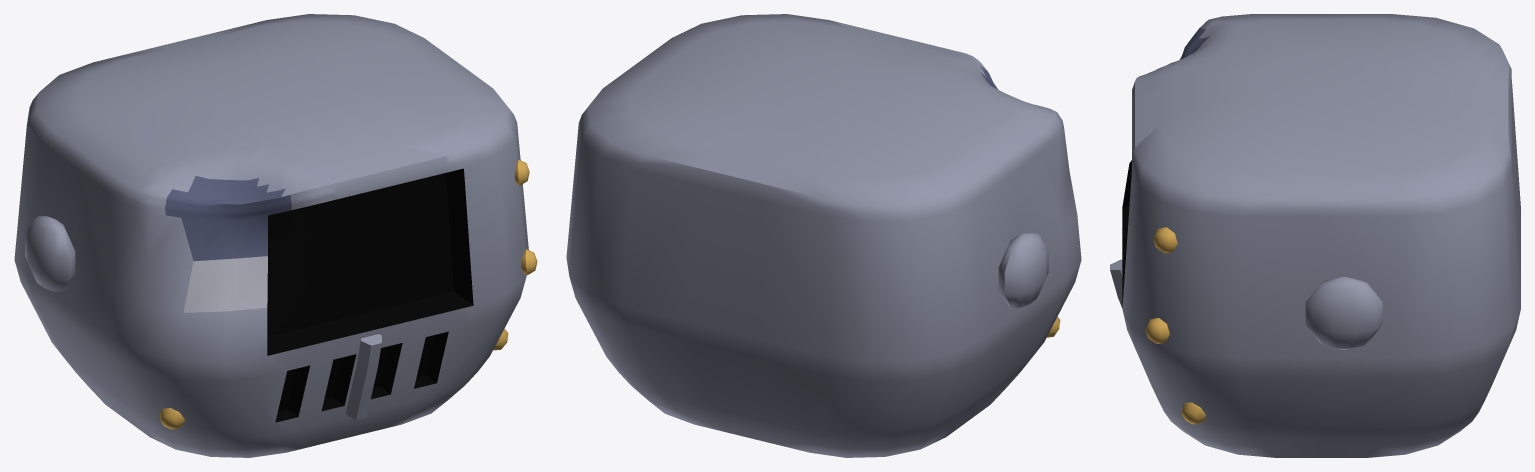
Rendered from knight_helmet_dent.glb.
3 views of the same model, side by side, from view 1: azimuth 30°, elevation 25°; view 2: azimuth 150°, elevation 25°; view 3: azimuth 270°, elevation 25° (orthographic).
Visible parts, largest first — view 1: HelmetDent; view 2: HelmetDent; view 3: HelmetDent.
Part boxes in pixels (bbox=[...]): HelmetDent: bbox=[14, 14, 537, 457]; HelmetDent: bbox=[566, 14, 1081, 457]; HelmetDent: bbox=[1110, 14, 1520, 457].
Bounding box in the file's own units: 0.4706 × 0.296 × 0.3652.
